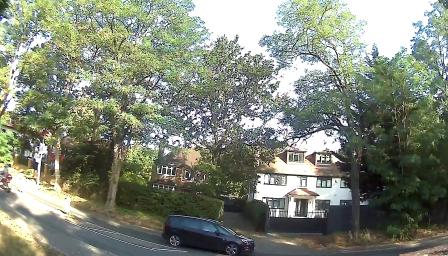Cars: (154, 213, 263, 256)
